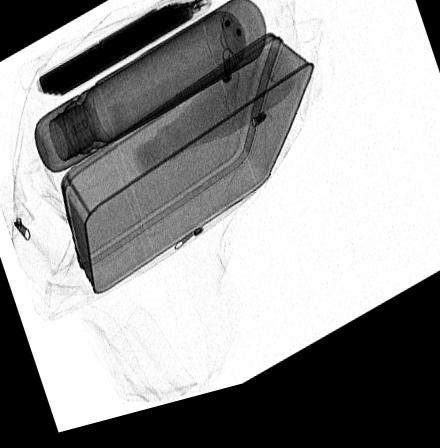Powerbank: (34, 3, 214, 100)
